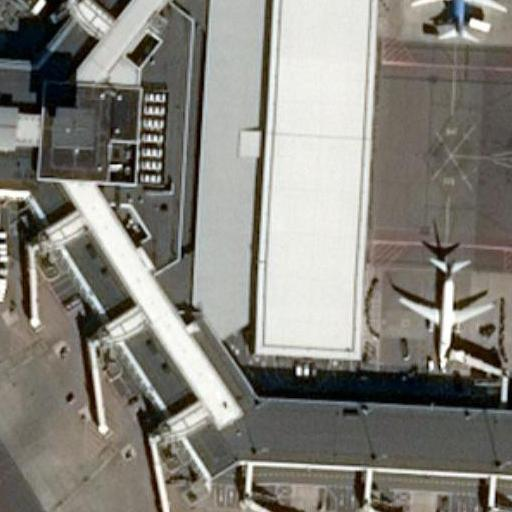Aircraft: (389, 246, 499, 372), (410, 0, 507, 47)
